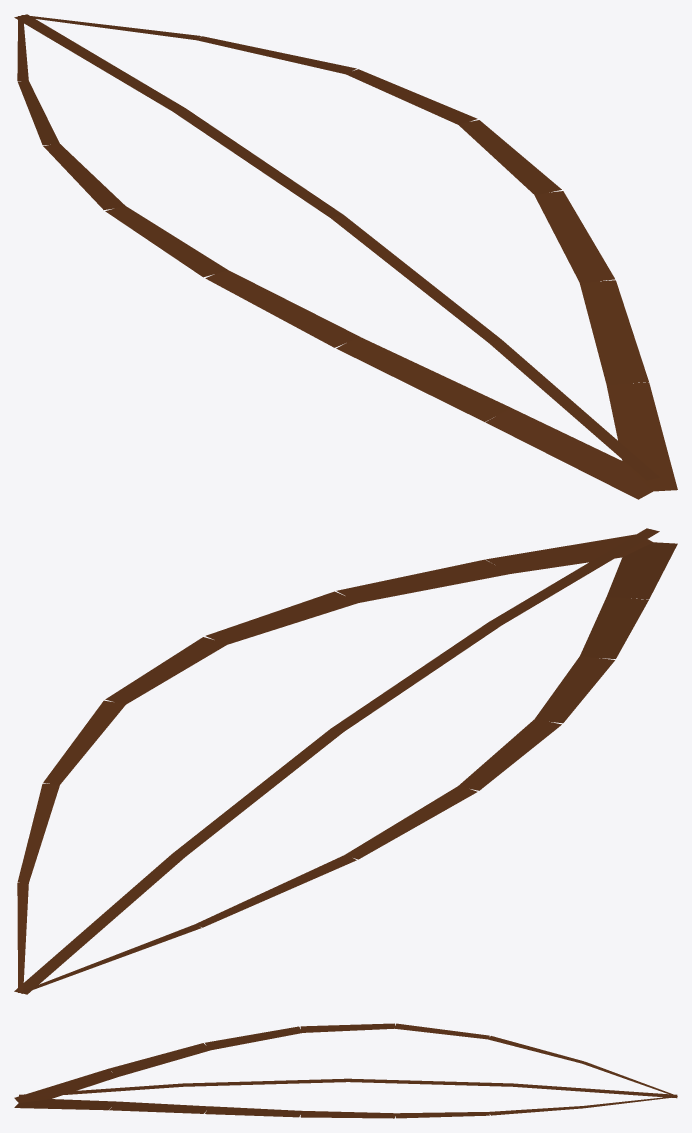
3 views of the same model, one above another, from view 1: azimuth 30°, elevation 25°; view 2: azimuth 150°, elevation 25°; view 3: azimuth 270°, elevation 25° (orthographic). The views are drawn at different scales.
Parts seen in each view (by area): view 1: IL3DN_Dead_Leaf_02_LOD0; view 2: IL3DN_Dead_Leaf_02_LOD0; view 3: IL3DN_Dead_Leaf_02_LOD0.
Part boxes in pixels (x1=…): IL3DN_Dead_Leaf_02_LOD0: x1=14, y1=14, x2=677, y2=499; IL3DN_Dead_Leaf_02_LOD0: x1=14, y1=528, x2=677, y2=994; IL3DN_Dead_Leaf_02_LOD0: x1=14, y1=1023, x2=677, y2=1118.
Bounding box in the file's own units: 126 × 19.83 × 373.
